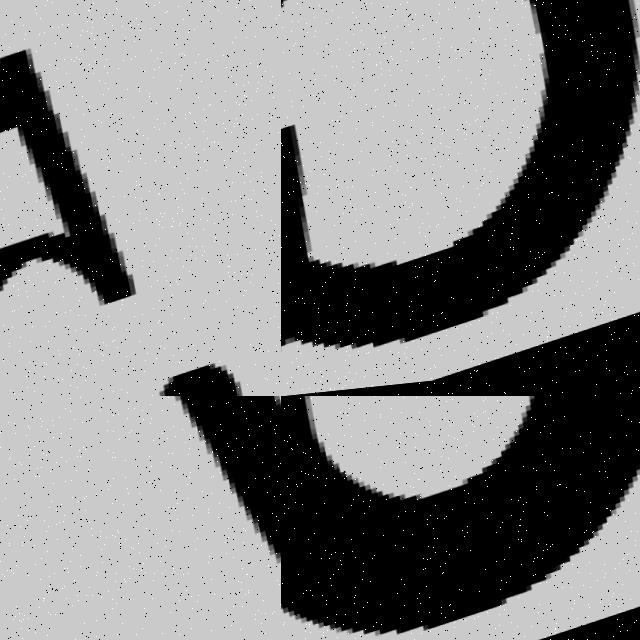5: (0, 0, 281, 396)
G: (281, 0, 640, 396)
J: (62, 396, 281, 640)
O: (281, 396, 640, 640)
